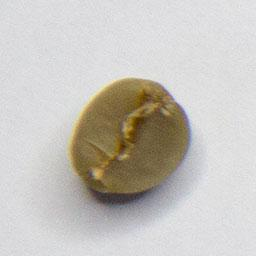premium: (66, 73, 195, 197)
